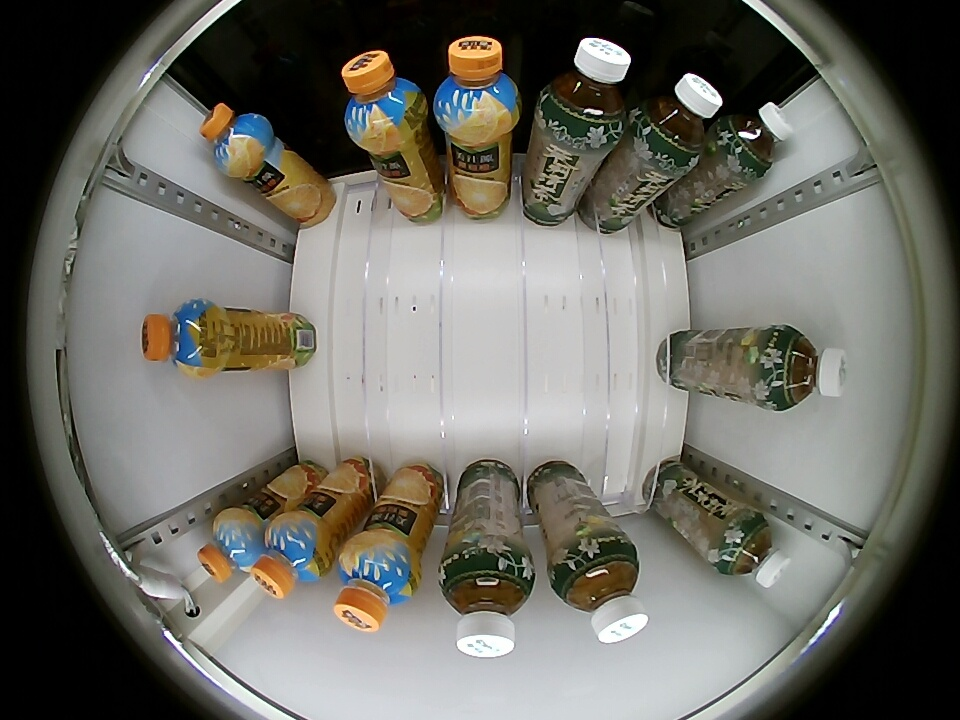guolicheng: (432, 36, 522, 142), (334, 532, 422, 632), (342, 50, 429, 150), (252, 510, 335, 599), (142, 298, 221, 378), (199, 101, 273, 179), (198, 508, 265, 583)
moliqingcha: (439, 551, 535, 658), (536, 37, 632, 142), (552, 539, 647, 645), (631, 72, 723, 168), (760, 324, 850, 411), (714, 510, 790, 587), (718, 101, 794, 177)
